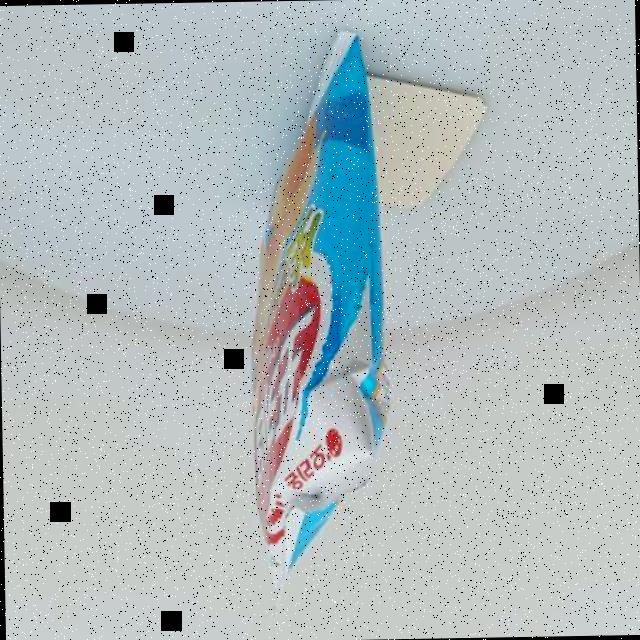snack_bag: (180, 1, 436, 628)
